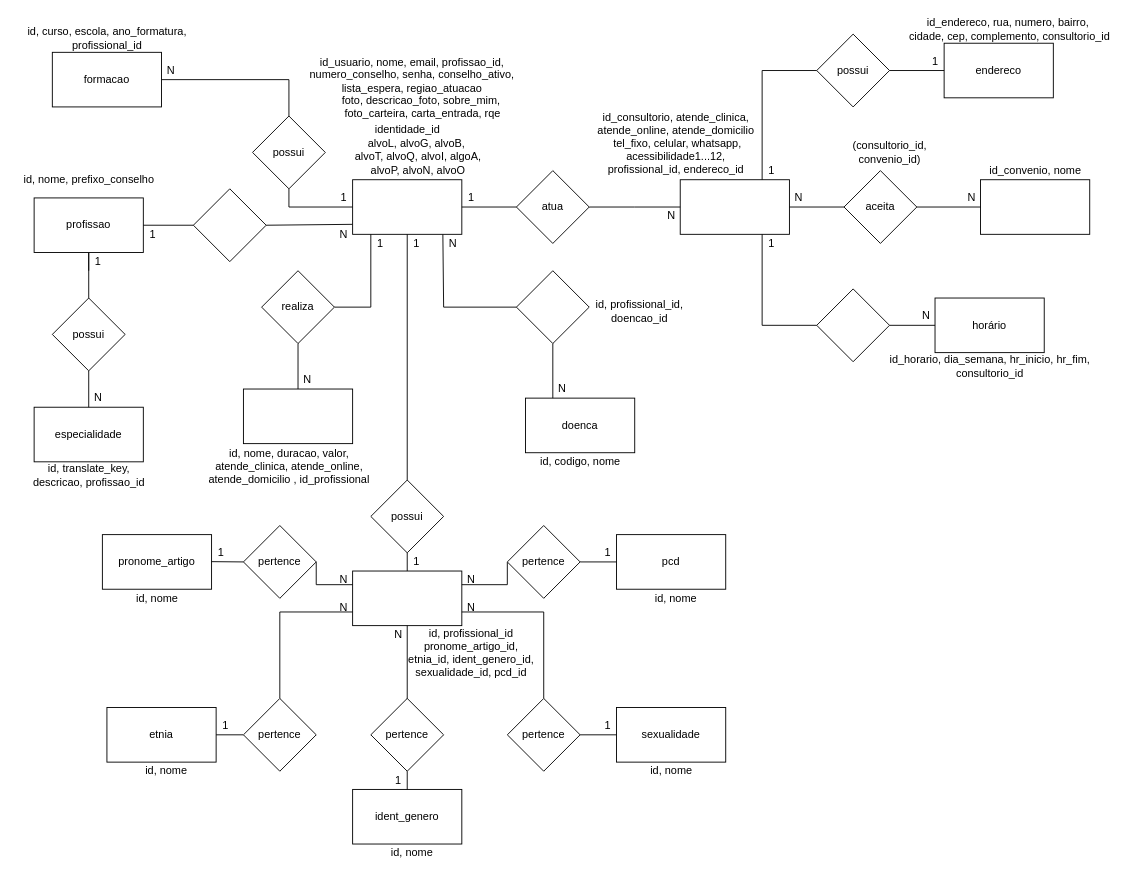
The diagram is 1132 pixels wide and 877 high, and some of its shapes have lost their labels. Each missing label, with the centre of its shape:
"consultorio" goes at (734,206).
"convenio" goes at (1035,206).
"exerce" goes at (229,225).
"funciona" goes at (853,325).
"identidade" goes at (407,598).
"profissional" goes at (407,206).
"servico" goes at (298,416).
"trata" goes at (552,307).
